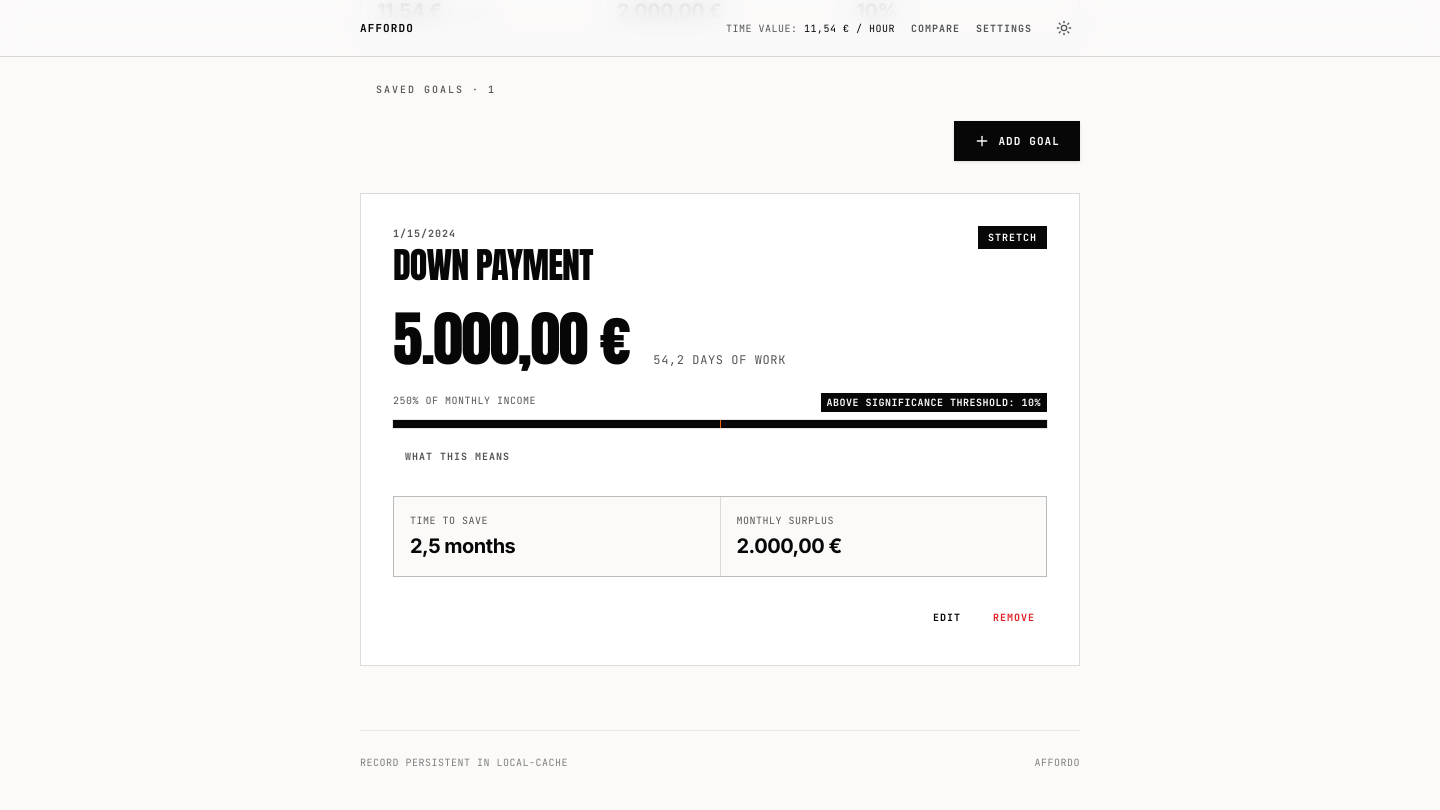
Test: Editing a goal — saving updates it in place › saves the edited price against the same goal
(page scrolled)
Click the button "Edit" at (947, 617), box [921,601,973,633]
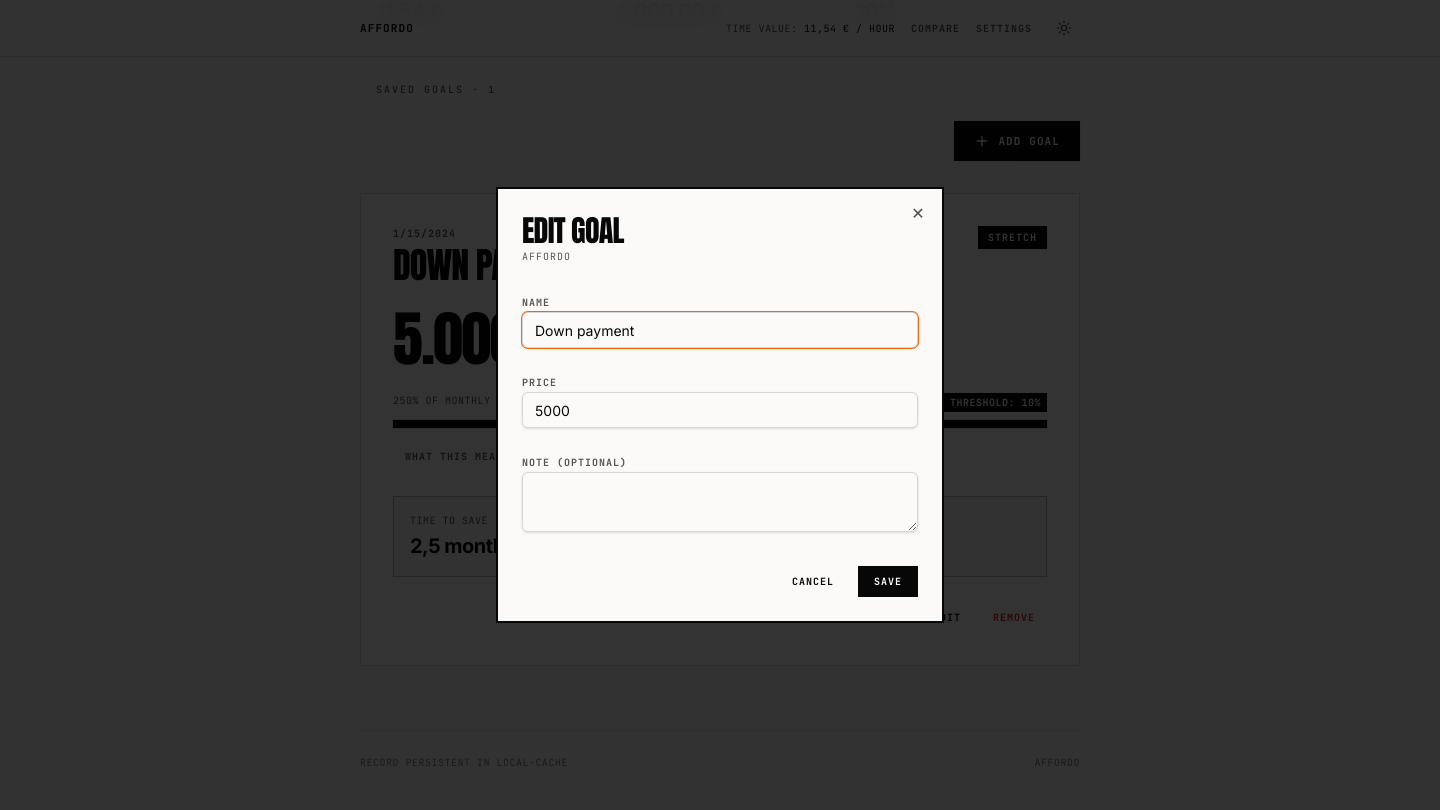
Replace the text in the number field labelled "Price" with "6000" at (720, 410), box [522,392,918,428]
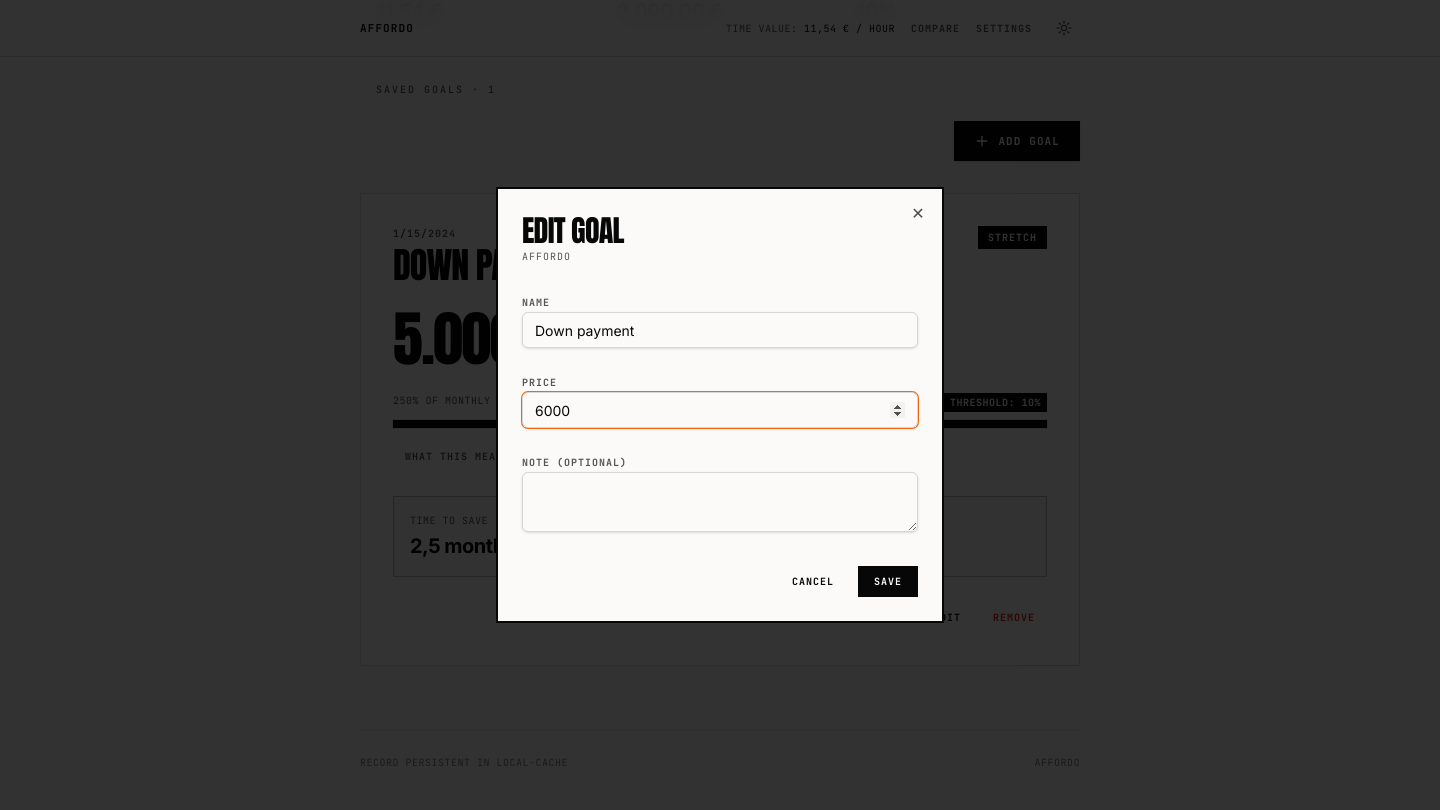
Click the button "Save" at (888, 582), box [858,566,918,597]
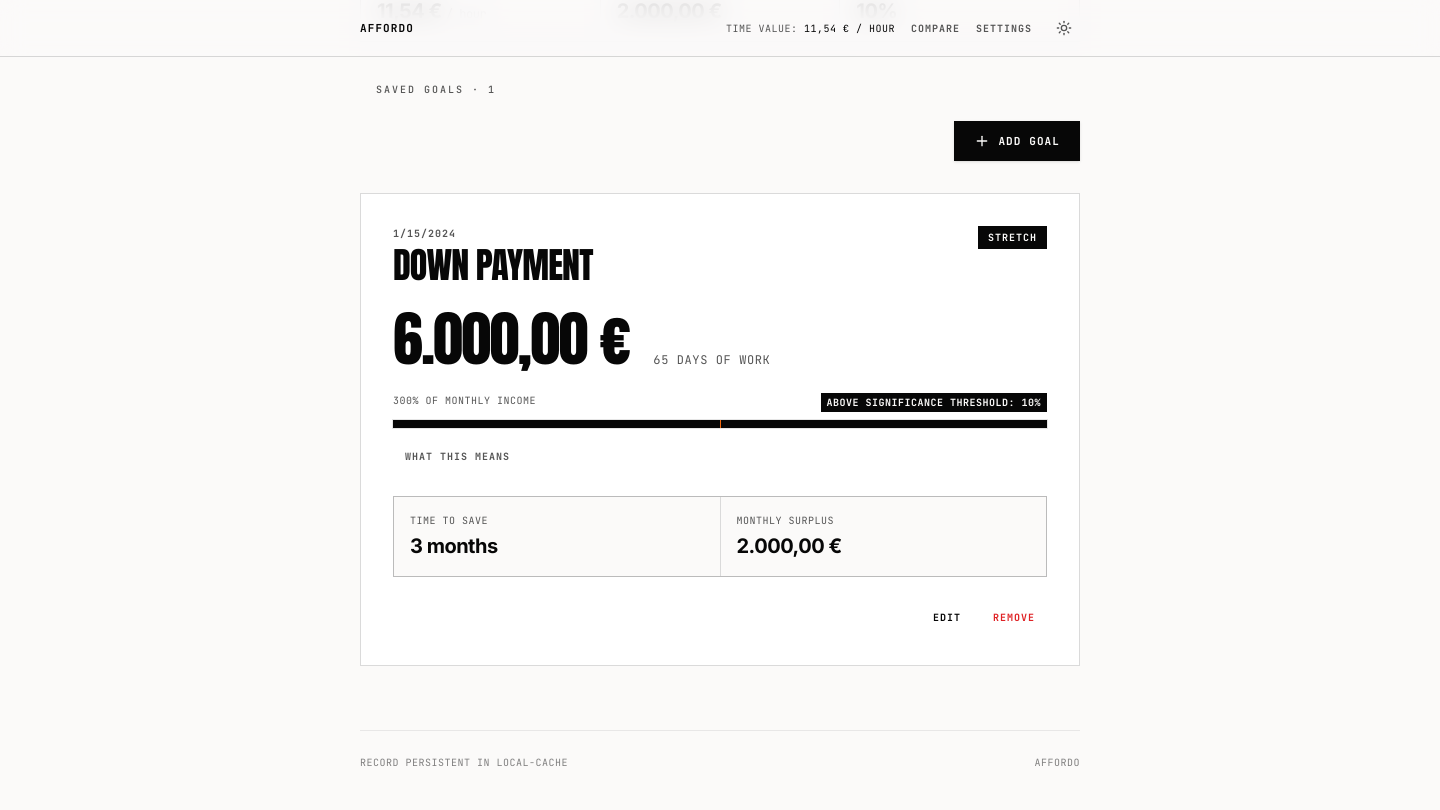
expect the text with test id "saved-goals-divider" reads "Saved goals · 1": met, box [376,82,496,97]
expect the list with test id "goals-list" shows "6.000,00 €": met, box [393,293,629,384]
